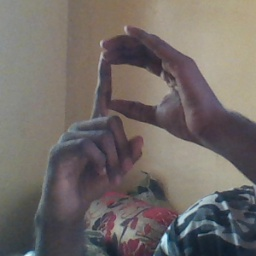P: (60, 23, 206, 179)
